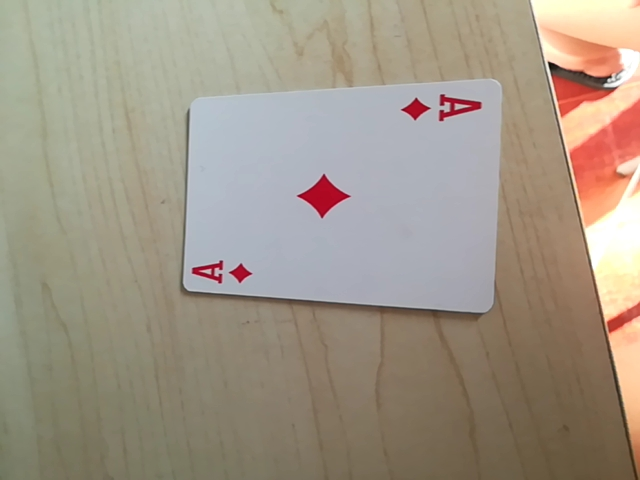fk a: (400, 90, 485, 129), (187, 255, 257, 290)
